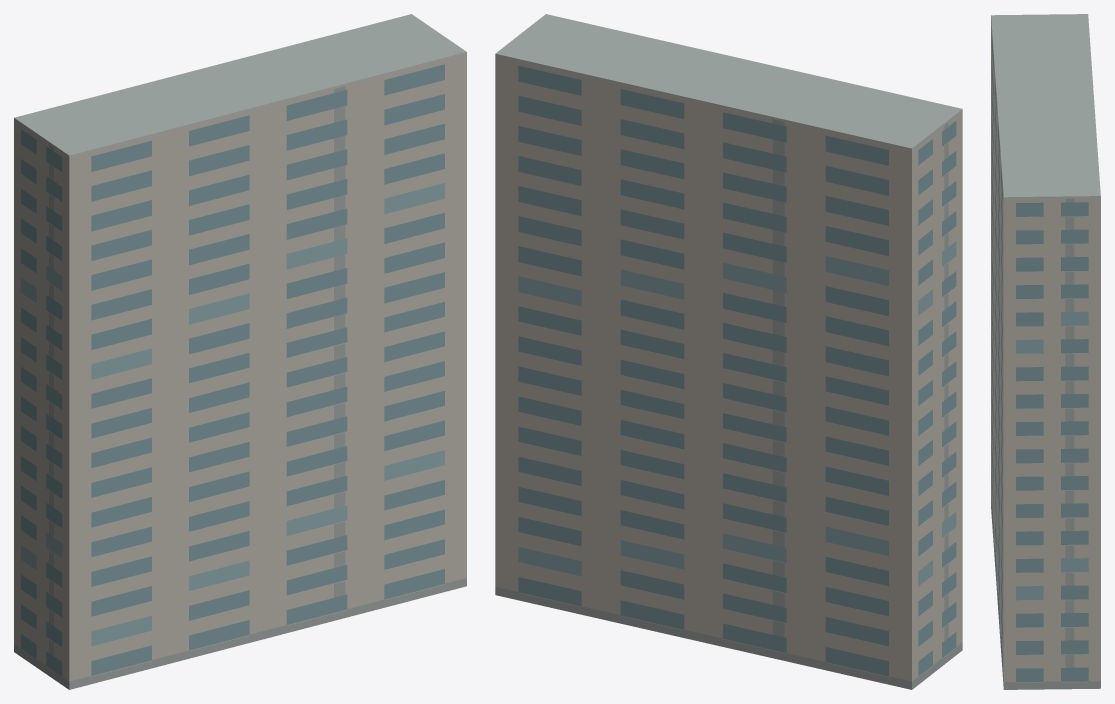
Rendered from residential-13b180f4-cfac-45f0-8878-b55f142f42be.glb.
3 views of the same model, side by side, from view 1: azimuth 30°, elevation 25°; view 2: azimuth 150°, elevation 25°; view 3: azimuth 270°, elevation 25° (orthographic). The views are drawn at different scales.
Visible parts, largest first — view 1: residential-13b180f4-cfac-45f0-8878-b55f142f42be.tmp; view 2: residential-13b180f4-cfac-45f0-8878-b55f142f42be.tmp; view 3: residential-13b180f4-cfac-45f0-8878-b55f142f42be.tmp.
Boxes of the visible parts, bbox=[...] form: residential-13b180f4-cfac-45f0-8878-b55f142f42be.tmp: bbox=[14, 14, 466, 689]; residential-13b180f4-cfac-45f0-8878-b55f142f42be.tmp: bbox=[495, 14, 962, 689]; residential-13b180f4-cfac-45f0-8878-b55f142f42be.tmp: bbox=[991, 14, 1100, 689].
Size of the model in its own units: 42.27 by 53 by 10.71.
